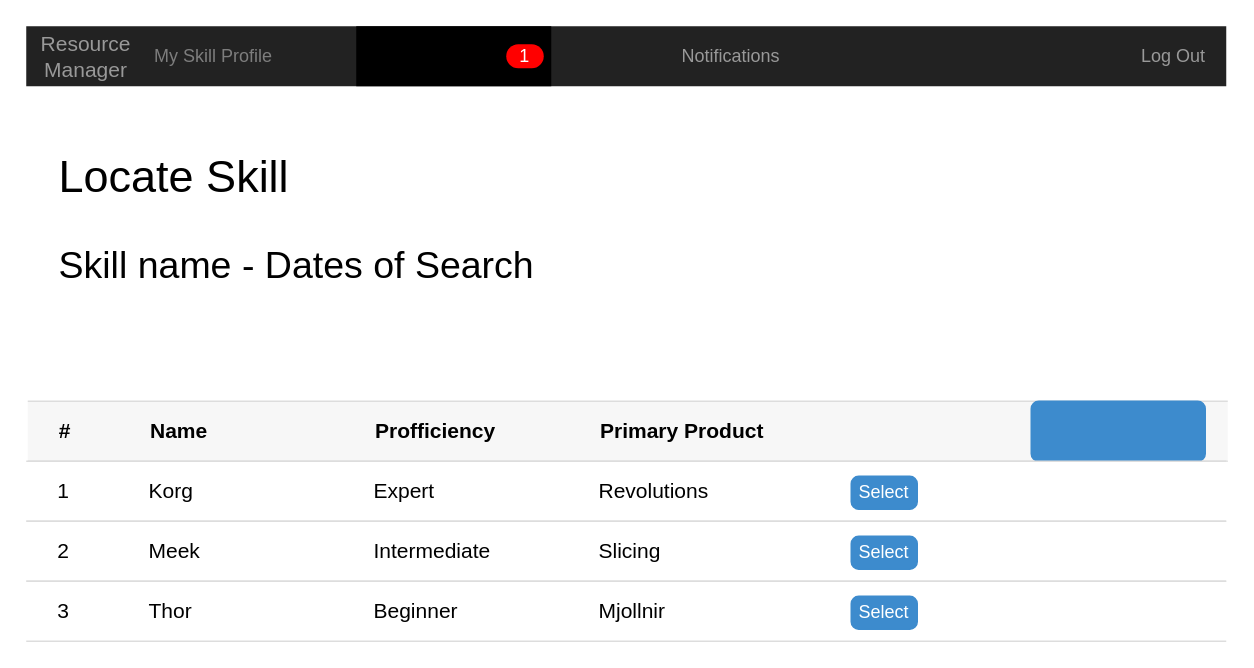
Some shapes in this 1254 by 668 pixel diagram are drawn without their labels. Each missing label, with the box of its shape:
Broaden Search: (1030, 400, 1205, 461)
Manage Projects: (356, 26, 550, 86)
